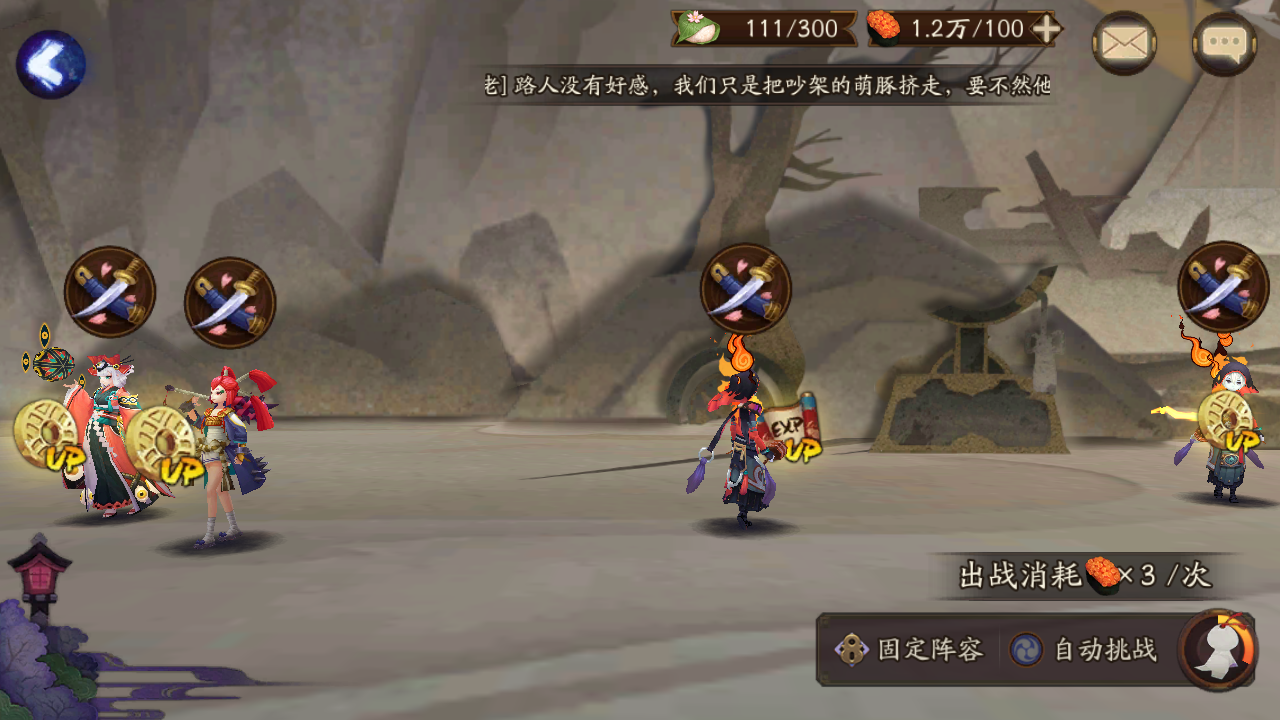experience: (753, 393, 827, 465)
money: (123, 404, 207, 490), (8, 396, 89, 472), (1193, 390, 1265, 458)
